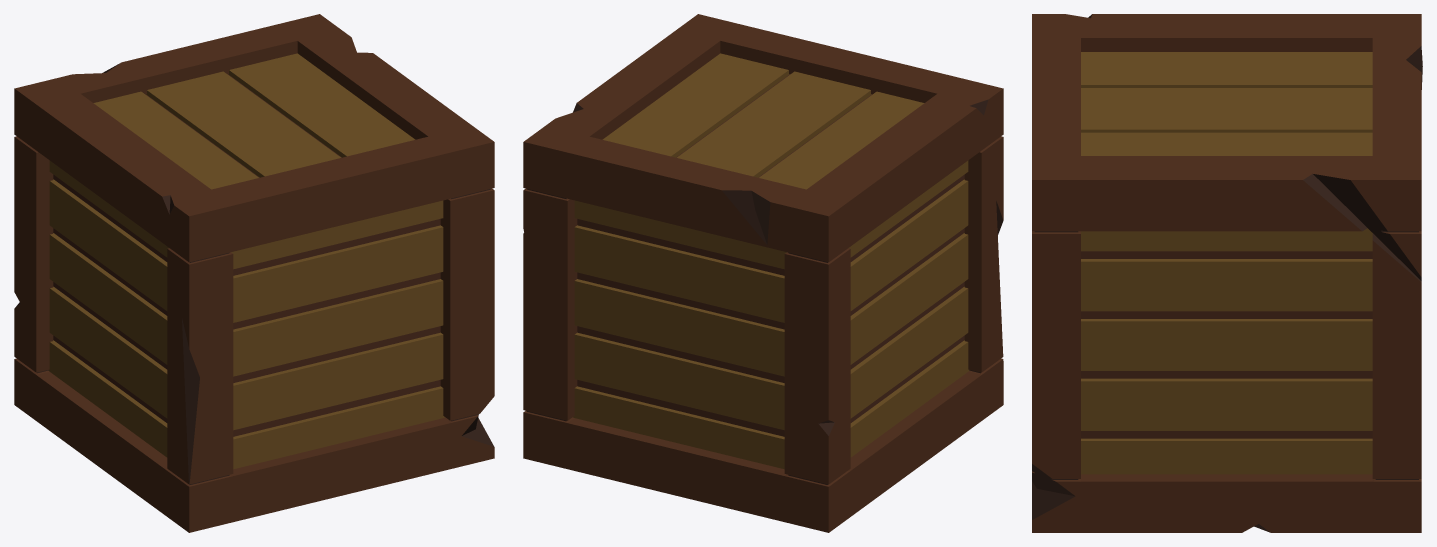
The model's file is woodenCrate.glb.
The picture shows the model from 3 angles, left to right: view 1: azimuth 30°, elevation 25°; view 2: azimuth 150°, elevation 25°; view 3: azimuth 270°, elevation 25°; orthographic projection. The views are drawn at different scales.
Parts seen in each view (by area): view 1: Cube, Plane, Plane.001, Plane.002; view 2: Cube, Plane, Plane.001, Plane.002; view 3: Cube, Plane.001, Plane.002.
Boxes of the visible parts, left/top/right/bottom form: Cube: left=14, top=14, right=494, bottom=532; Plane: left=231, top=200, right=444, bottom=469; Plane.001: left=48, top=160, right=168, bottom=457; Plane.002: left=93, top=53, right=415, bottom=189; Cube: left=523, top=14, right=1003, bottom=532; Plane: left=573, top=200, right=786, bottom=469; Plane.001: left=849, top=160, right=969, bottom=457; Plane.002: left=602, top=53, right=924, bottom=189; Cube: left=1032, top=14, right=1422, bottom=532; Plane.001: left=1081, top=228, right=1372, bottom=474; Plane.002: left=1081, top=52, right=1372, bottom=155.
Bounding box in the file's own units: 2.02 × 2 × 2.01.
